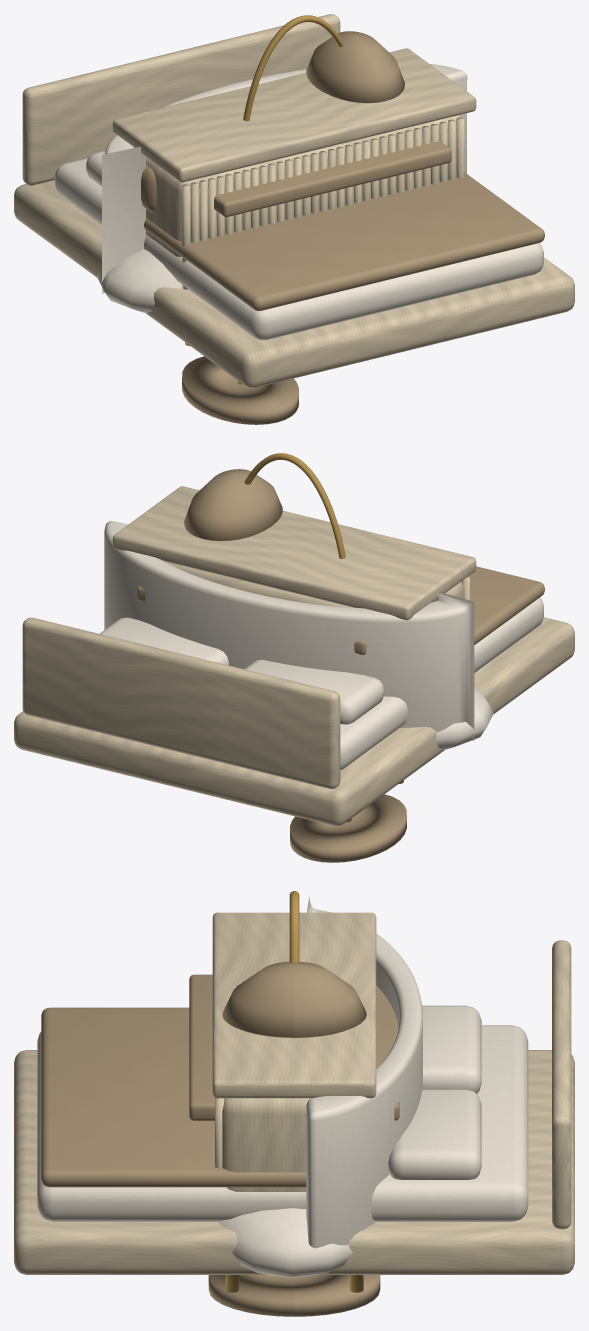
File: tidy-life-minimal.glb
3 renders of one model, top to bottom at view 1: azimuth 30°, elevation 25°; view 2: azimuth 150°, elevation 25°; view 3: azimuth 270°, elevation 25°, orthographic. The views are drawn at different scales.
Parts seen in each view (by area): view 1: life_minimal_platformbed_mesh, life_minimal_flutedsideboard_mesh, life_minimal_arclamp_mesh, life_minimal_curvesofa_mesh, life_minimal_stonetable_mesh; view 2: life_minimal_platformbed_mesh, life_minimal_curvesofa_mesh, life_minimal_flutedsideboard_mesh, life_minimal_arclamp_mesh; view 3: life_minimal_platformbed_mesh, life_minimal_flutedsideboard_mesh, life_minimal_curvesofa_mesh, life_minimal_arclamp_mesh, life_minimal_stonetable_mesh.
Part boxes in pixels (x1,y1,x2,y2): life_minimal_platformbed_mesh: (14, 14, 574, 388); life_minimal_flutedsideboard_mesh: (112, 48, 476, 346); life_minimal_arclamp_mesh: (182, 15, 404, 424); life_minimal_curvesofa_mesh: (97, 64, 467, 312); life_minimal_stonetable_mesh: (214, 140, 451, 216); life_minimal_platformbed_mesh: (14, 566, 574, 825); life_minimal_curvesofa_mesh: (104, 521, 493, 749); life_minimal_flutedsideboard_mesh: (112, 486, 476, 783); life_minimal_arclamp_mesh: (184, 453, 406, 862); life_minimal_platformbed_mesh: (14, 940, 574, 1274); life_minimal_flutedsideboard_mesh: (212, 912, 376, 1292); life_minimal_curvesofa_mesh: (218, 897, 422, 1278); life_minimal_arclamp_mesh: (208, 891, 380, 1316); life_minimal_stonetable_mesh: (189, 974, 399, 1120).
Size of the model in its own units: 0.67 by 0.61 by 0.72.
Materials: 5 (5 with a texture image).
